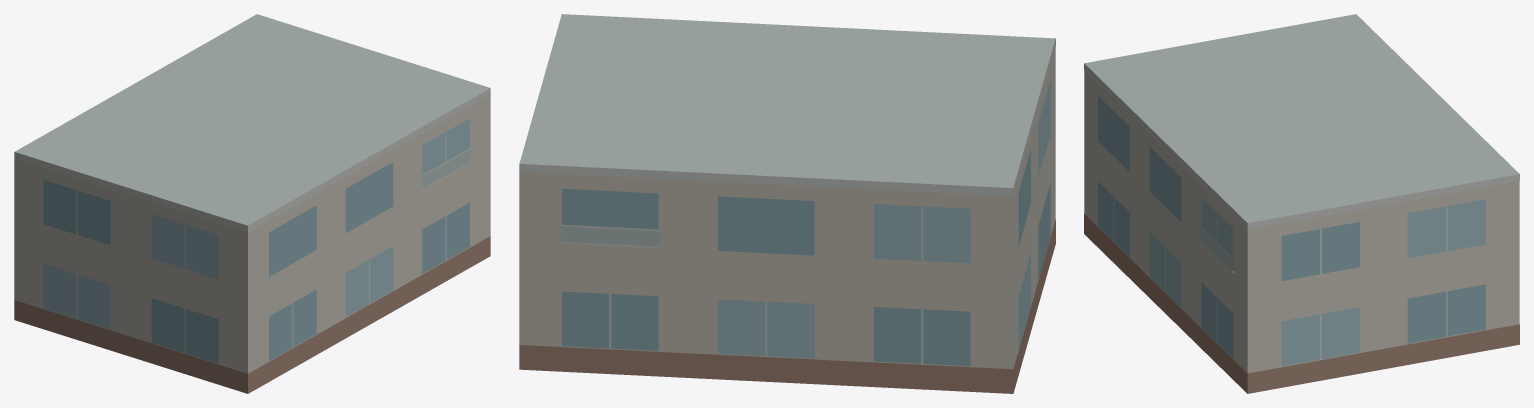
The model's file is survey-upis-32711232.glb.
3 views of the same model, side by side, from view 1: azimuth 30°, elevation 25°; view 2: azimuth 150°, elevation 25°; view 3: azimuth 270°, elevation 25° (orthographic). The views are drawn at different scales.
Parts seen in each view (by area): view 1: survey-upis-32711232.tmp; view 2: survey-upis-32711232.tmp; view 3: survey-upis-32711232.tmp.
Part boxes in pixels (<box>): survey-upis-32711232.tmp: <box>14,14,490,393</box>; survey-upis-32711232.tmp: <box>519,14,1055,393</box>; survey-upis-32711232.tmp: <box>1084,14,1519,393</box>.
Size of the model in its own units: 16.05 by 6.1 by 14.12.
